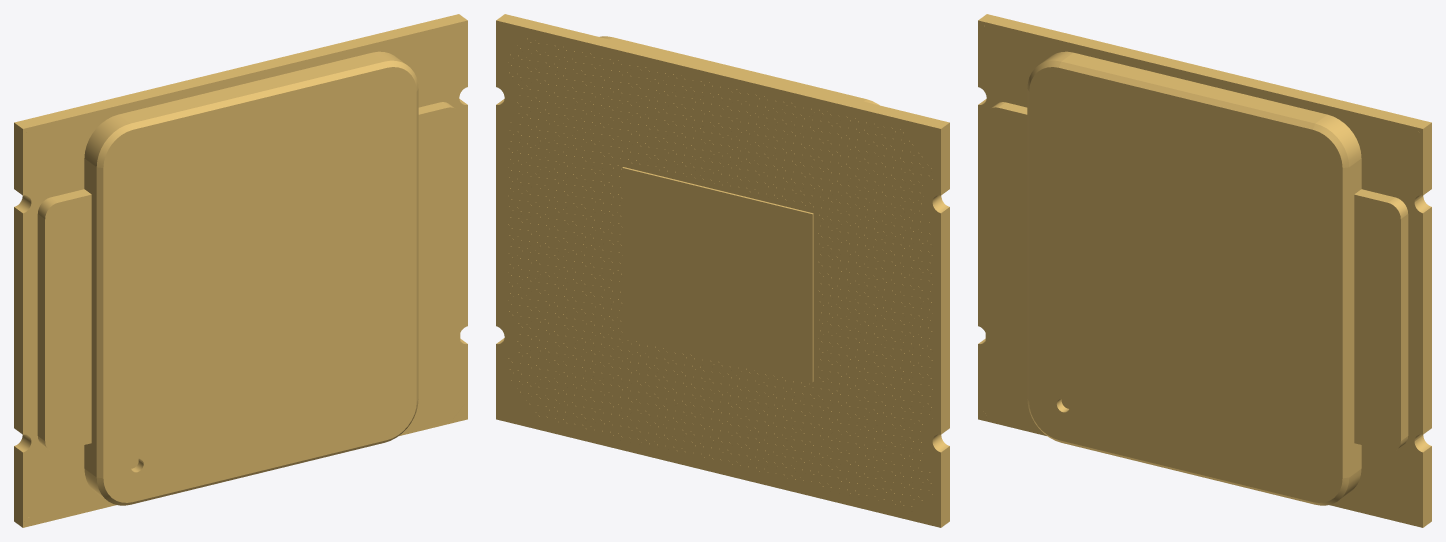
The model's file is cpu-kunpeng920-hi1620.glb.
3 views of the same model, side by side, from view 1: azimuth 30°, elevation 25°; view 2: azimuth 150°, elevation 25°; view 3: azimuth 330°, elevation 25° (orthographic).
Visible parts, largest first — view 1: Ordner 38 (20); view 2: Ordner 38 (20); view 3: Ordner 38 (20).
Part boxes in pixels (x1=…): Ordner 38 (20): x1=14, y1=14, x2=467, y2=527; Ordner 38 (20): x1=496, y1=14, x2=949, y2=527; Ordner 38 (20): x1=978, y1=14, x2=1431, y2=527.
Bounding box in the file's own units: 52.43 × 44.93 × 5.05.
